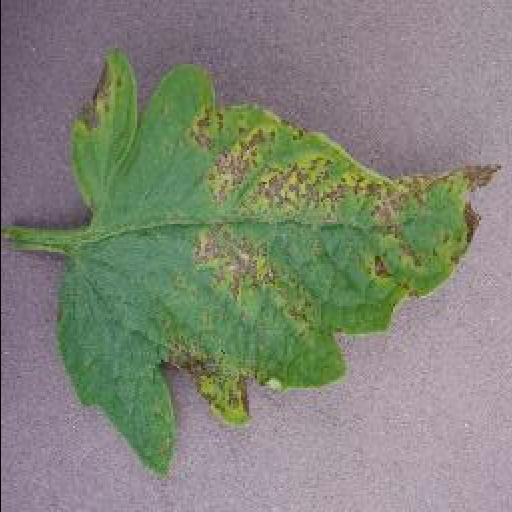disease_tomato: (54, 52, 504, 482)
